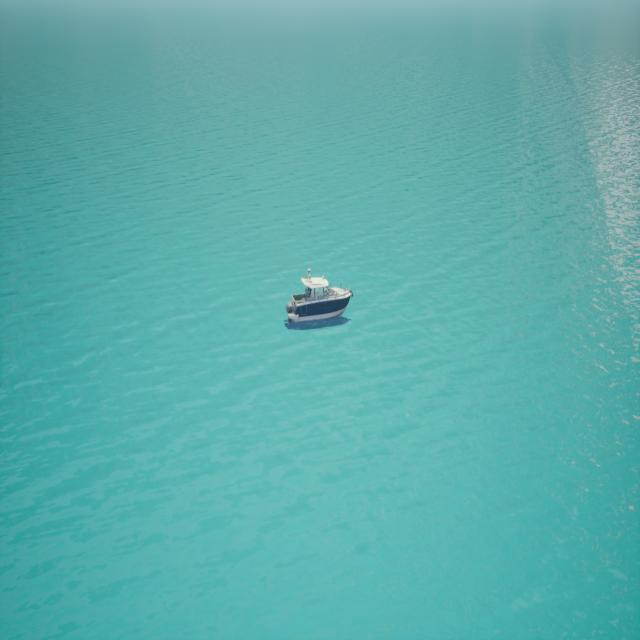ship: (284, 269, 352, 329)
